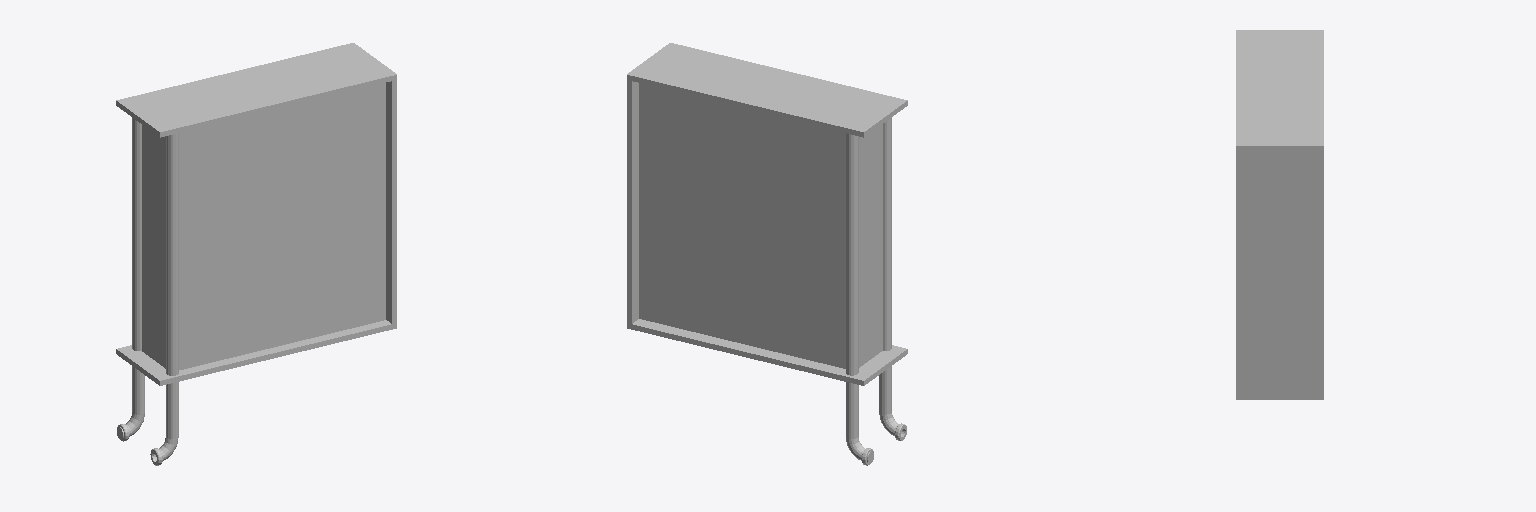
Rendered from coolingCoil2.obj.
3 views of the same model, side by side, from view 1: azimuth 30°, elevation 25°; view 2: azimuth 150°, elevation 25°; view 3: azimuth 270°, elevation 25° (orthographic).
Parts seen in each view (by area): view 1: CoolingCoil_CoolingCoilGeom; view 2: CoolingCoil_CoolingCoilGeom; view 3: CoolingCoil_CoolingCoilGeom.
Part boxes in pixels (bbox=[...]): CoolingCoil_CoolingCoilGeom: bbox=[116, 43, 396, 465]; CoolingCoil_CoolingCoilGeom: bbox=[627, 43, 907, 465]; CoolingCoil_CoolingCoilGeom: bbox=[1236, 30, 1323, 399].
Size of the model in its own units: 1.73 by 2.33 by 0.5496.